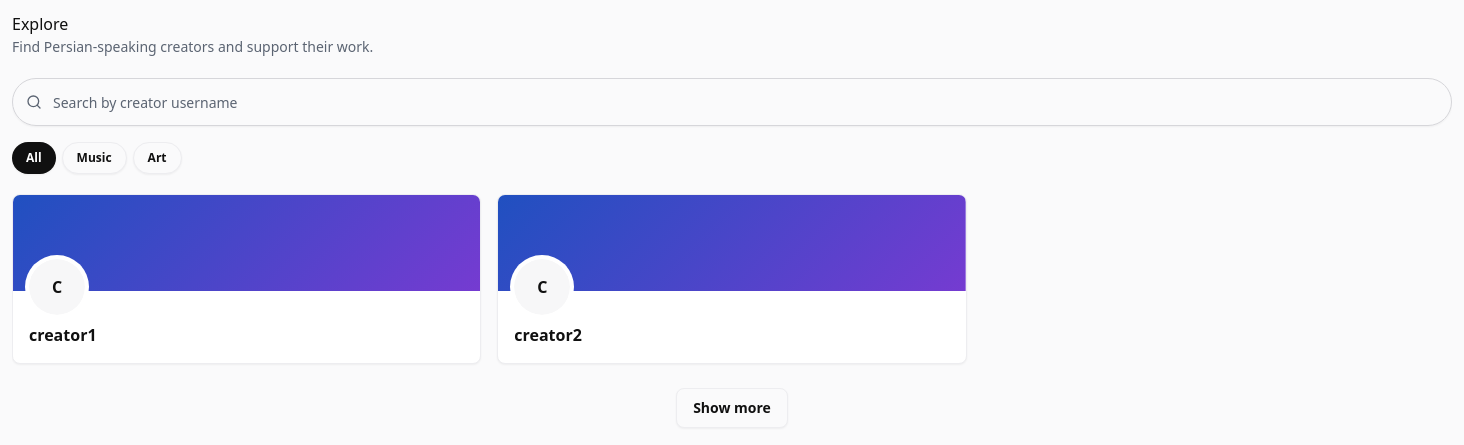
ExploreView › loads the next page on request without repeating a creator
Click the button "Show more" at (732, 408), box [676,388,788,428]
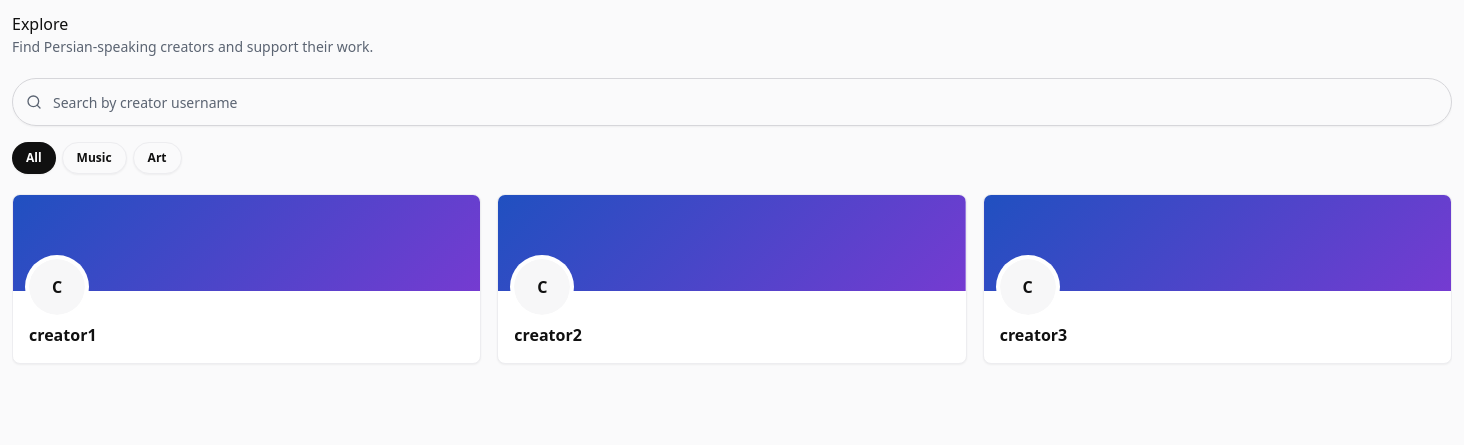
Now the heading "creator3" is shown, box [1000,324,1067,346]
Now the button "Show more" is gone
